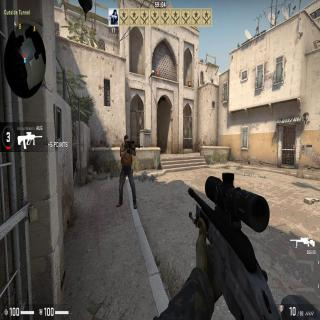T-Body: (116, 133, 138, 210)
T-Head: (123, 134, 129, 146)
